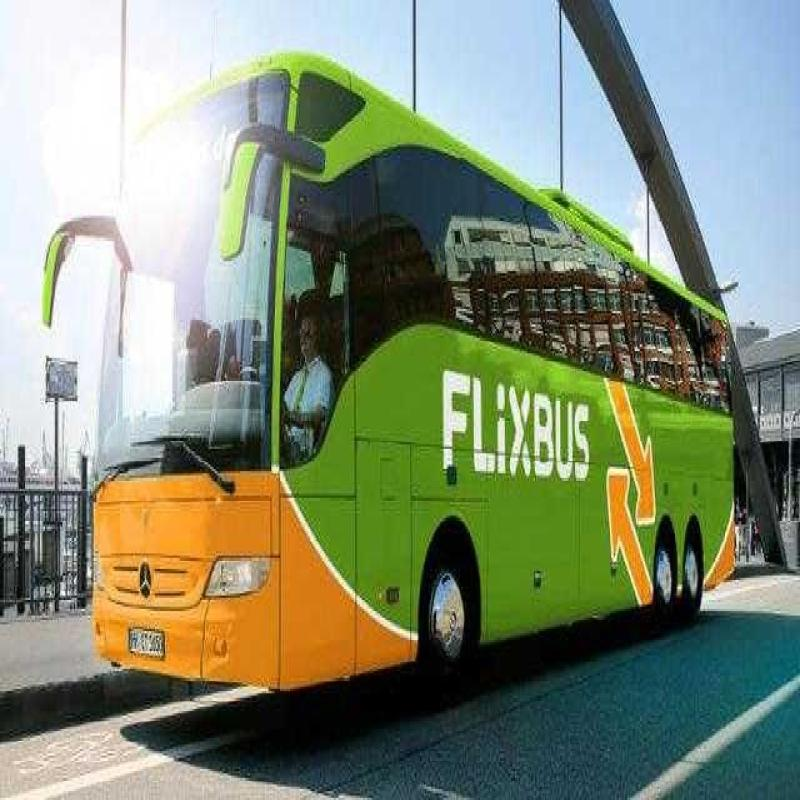bus: (46, 50, 730, 689)
